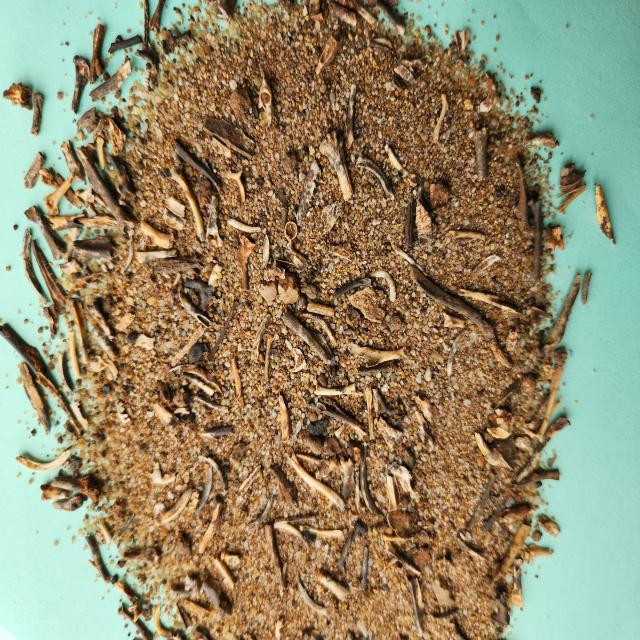fossil: (409, 262, 499, 343), (75, 143, 134, 231), (536, 270, 583, 368), (514, 414, 572, 483), (484, 520, 533, 600), (286, 450, 348, 512), (279, 304, 337, 367), (35, 370, 84, 440), (31, 238, 71, 313), (318, 128, 355, 209), (169, 164, 207, 242), (173, 136, 223, 193), (0, 321, 50, 377), (16, 360, 52, 435), (23, 204, 68, 262), (201, 114, 257, 160), (535, 362, 564, 443), (88, 54, 132, 104), (314, 400, 368, 440), (22, 227, 49, 305), (196, 492, 228, 556), (208, 298, 240, 362), (354, 154, 396, 202), (465, 469, 497, 532), (14, 442, 75, 474), (295, 157, 322, 229), (388, 52, 433, 94), (50, 473, 103, 508), (93, 194, 136, 237), (512, 159, 536, 236), (457, 286, 520, 315), (263, 521, 289, 591), (106, 148, 136, 207), (66, 296, 91, 366), (514, 392, 552, 438), (526, 195, 545, 286), (233, 230, 260, 294), (474, 429, 515, 471), (383, 142, 420, 188), (346, 342, 411, 368), (347, 285, 389, 325), (169, 364, 224, 394), (381, 539, 423, 578), (296, 570, 330, 618), (202, 572, 236, 619), (171, 322, 206, 367), (42, 171, 76, 217), (297, 309, 338, 347), (84, 531, 112, 586), (593, 183, 617, 247), (176, 290, 214, 330), (72, 234, 116, 268), (373, 0, 410, 40), (256, 67, 280, 128), (314, 29, 344, 77), (268, 462, 299, 508), (360, 444, 380, 515), (49, 171, 85, 210), (445, 327, 468, 388), (70, 52, 91, 117), (160, 484, 194, 524), (414, 197, 439, 251), (117, 603, 153, 640), (273, 238, 310, 274), (134, 41, 160, 92), (184, 277, 217, 317), (404, 573, 424, 639), (426, 607, 466, 640), (86, 299, 115, 344), (335, 0, 380, 29), (153, 253, 205, 278), (508, 467, 562, 491), (427, 90, 450, 146), (490, 377, 522, 417), (316, 567, 351, 602), (89, 22, 108, 86), (484, 333, 515, 371), (204, 193, 225, 249), (250, 312, 274, 361), (59, 138, 85, 183), (201, 454, 230, 494), (341, 83, 358, 151), (140, 219, 176, 251), (385, 508, 421, 540), (485, 406, 517, 442), (480, 490, 506, 534), (90, 325, 120, 363), (274, 522, 312, 552), (376, 415, 406, 452), (524, 302, 554, 339), (248, 492, 274, 534), (122, 545, 162, 572), (75, 214, 120, 238), (478, 70, 502, 115), (472, 124, 490, 184), (558, 161, 588, 197), (411, 410, 435, 455), (334, 529, 356, 578), (22, 150, 47, 192), (468, 252, 502, 282), (2, 80, 33, 112), (180, 371, 218, 397), (369, 269, 397, 304), (428, 573, 456, 608), (319, 198, 345, 235), (428, 177, 452, 217), (326, 0, 359, 29), (212, 552, 237, 590), (334, 277, 373, 301), (509, 554, 525, 612), (488, 589, 512, 627), (197, 461, 214, 514), (153, 398, 181, 430), (230, 355, 246, 411), (457, 536, 489, 564), (66, 328, 83, 380), (152, 600, 174, 640), (453, 26, 473, 70), (238, 462, 263, 497), (90, 350, 120, 379), (161, 28, 192, 56), (389, 463, 417, 494), (402, 196, 418, 250), (226, 167, 248, 206), (229, 86, 254, 120), (278, 391, 294, 444), (503, 322, 531, 352), (394, 246, 425, 273), (51, 492, 89, 514), (522, 542, 554, 568), (62, 226, 84, 263), (146, 0, 168, 37), (523, 130, 558, 153), (415, 389, 438, 424), (44, 213, 86, 232), (39, 481, 75, 503), (135, 248, 179, 266), (312, 382, 361, 398), (556, 187, 585, 214), (299, 524, 345, 541), (148, 460, 178, 486), (326, 238, 356, 264), (363, 384, 376, 444), (492, 434, 518, 464), (108, 117, 127, 158), (356, 359, 397, 378), (107, 34, 144, 55), (182, 597, 213, 622), (193, 394, 231, 414), (496, 502, 536, 521), (172, 528, 195, 561), (75, 105, 98, 138), (535, 511, 563, 538), (29, 91, 45, 138), (41, 303, 60, 342), (542, 224, 567, 253), (156, 381, 180, 411), (58, 350, 74, 395), (199, 422, 236, 441), (225, 216, 262, 235), (209, 134, 236, 160), (161, 206, 188, 232), (448, 226, 487, 244), (356, 542, 370, 592), (74, 268, 103, 292), (92, 112, 115, 142), (274, 510, 320, 525), (69, 398, 89, 432), (386, 471, 402, 513), (340, 456, 356, 498), (313, 456, 341, 480), (195, 174, 214, 209), (214, 0, 239, 26), (262, 333, 275, 383), (164, 272, 182, 308), (115, 578, 138, 606), (365, 36, 397, 56), (458, 531, 488, 552), (175, 602, 195, 633), (286, 346, 308, 374), (434, 545, 456, 573), (93, 134, 109, 172), (120, 232, 134, 275), (165, 193, 187, 220), (116, 509, 135, 540), (305, 300, 336, 319), (371, 387, 390, 418), (257, 276, 277, 305), (80, 142, 97, 176), (554, 183, 586, 201), (512, 433, 536, 457), (261, 262, 287, 284), (73, 182, 96, 206), (412, 543, 432, 570), (228, 442, 248, 468), (141, 0, 151, 52), (280, 149, 299, 176), (98, 515, 114, 547), (258, 231, 271, 270), (114, 310, 137, 332), (168, 578, 193, 598), (441, 310, 466, 330), (110, 104, 126, 135), (114, 396, 131, 425), (346, 439, 364, 466), (580, 269, 593, 306), (58, 257, 83, 276), (306, 432, 325, 457), (171, 385, 192, 407), (186, 340, 206, 362), (219, 549, 242, 568), (128, 599, 146, 623), (38, 164, 56, 188), (184, 572, 203, 594), (135, 332, 157, 351), (111, 498, 127, 524), (208, 261, 224, 287), (323, 435, 342, 456), (344, 305, 362, 327), (354, 470, 363, 514), (296, 452, 324, 466), (520, 371, 537, 393), (386, 406, 404, 426), (386, 313, 403, 334), (308, 0, 324, 22), (301, 522, 317, 544), (552, 346, 568, 368), (402, 448, 418, 470), (381, 532, 415, 542), (188, 624, 209, 640), (529, 83, 543, 107), (301, 626, 325, 640), (283, 220, 298, 242), (303, 282, 321, 300), (364, 0, 399, 9), (187, 488, 200, 512), (179, 408, 195, 427), (380, 556, 399, 572), (393, 560, 412, 576), (386, 399, 406, 414), (274, 616, 286, 640), (84, 202, 99, 220), (172, 402, 192, 414), (418, 528, 431, 546), (220, 457, 232, 475), (531, 527, 543, 544), (543, 363, 555, 380), (191, 290, 201, 310), (296, 295, 308, 310), (119, 272, 132, 284), (206, 297, 220, 307), (171, 630, 183, 640), (243, 631, 256, 640), (113, 89, 122, 101), (208, 305, 215, 318)
